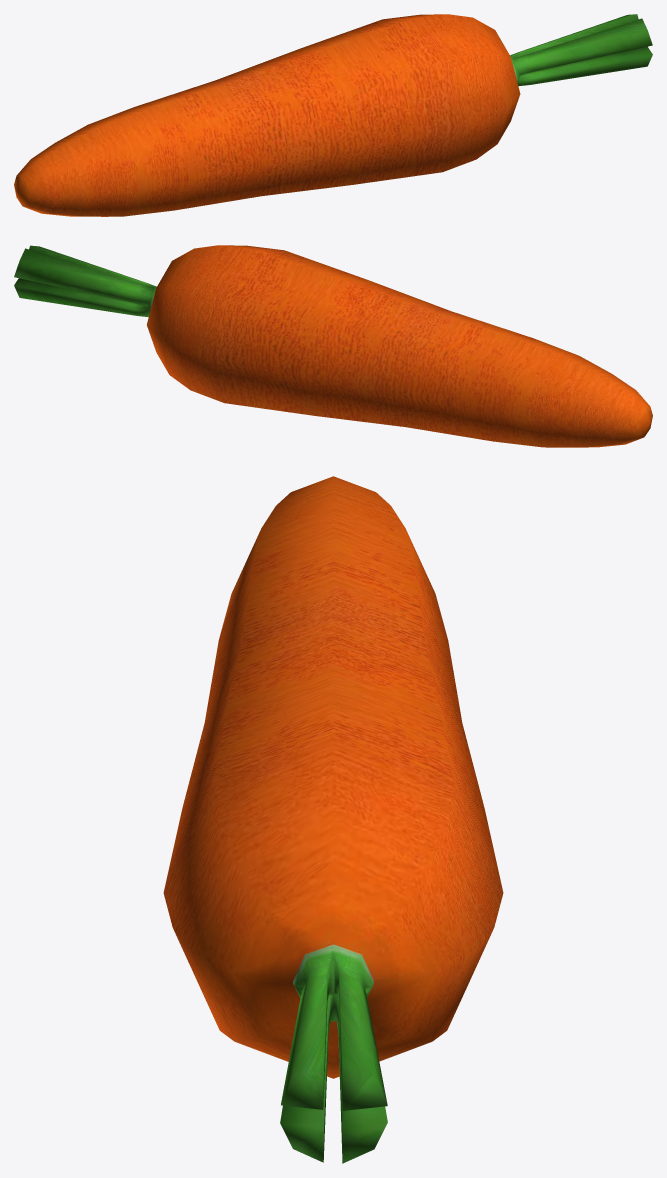
File: zanahoria.glb
3 views of the same model, one above another, from view 1: azimuth 30°, elevation 25°; view 2: azimuth 150°, elevation 25°; view 3: azimuth 270°, elevation 25° (orthographic). The views are drawn at different scales.
Parts seen in each view (by area): view 1: zanahoria; view 2: zanahoria; view 3: zanahoria.
Part boxes in pixels (x1,y1,x2,y2): zanahoria: (14,14,652,216); zanahoria: (14,245,652,447); zanahoria: (163,476,503,1163).
Size of the model in its own units: 0.2398 by 0.0563 by 0.0563.
Materials: 1 (1 with a texture image).
